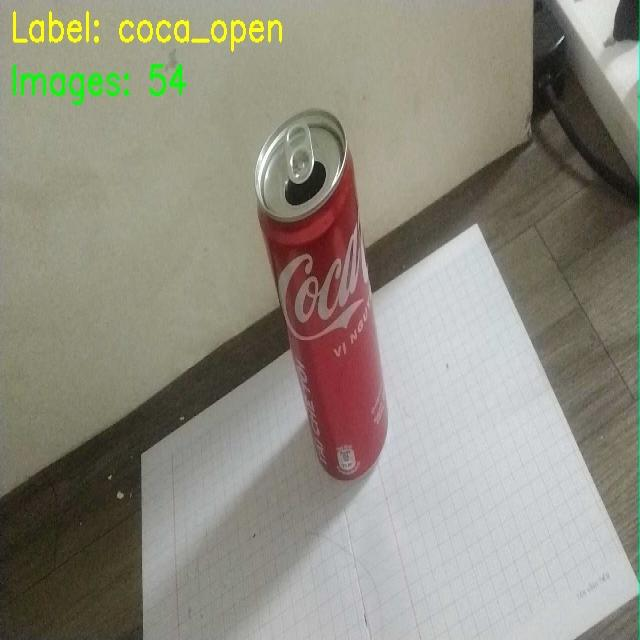Coca_open: (233, 110, 414, 490)
